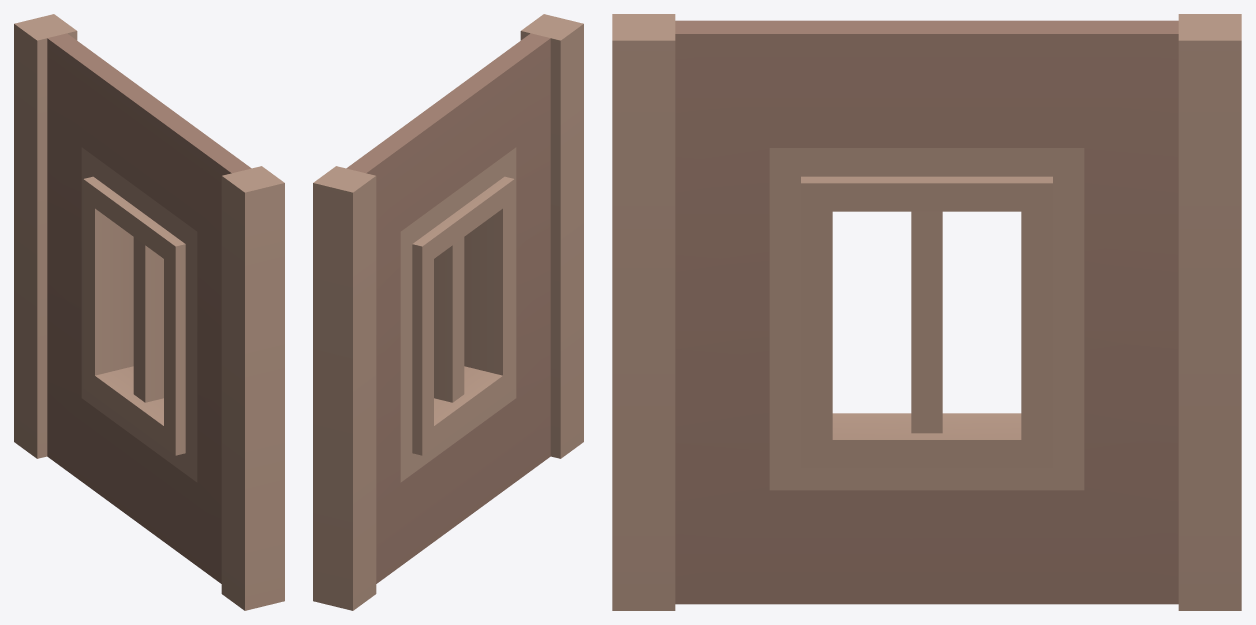
File: wall-wood-window-shutters.glb
3 views of the same model, side by side, from view 1: azimuth 30°, elevation 25°; view 2: azimuth 150°, elevation 25°; view 3: azimuth 270°, elevation 25° (orthographic). The views are drawn at different scales.
Visible parts, largest first — view 1: wall-wood-window-shutters; view 2: wall-wood-window-shutters; view 3: wall-wood-window-shutters.
Part boxes in pixels (box(x1,y1,x2,y2)): wall-wood-window-shutters: box(14, 14, 284, 610); wall-wood-window-shutters: box(313, 14, 583, 610); wall-wood-window-shutters: box(612, 14, 1241, 610).
Size of the model in its own units: 0.1 by 1 by 1.
